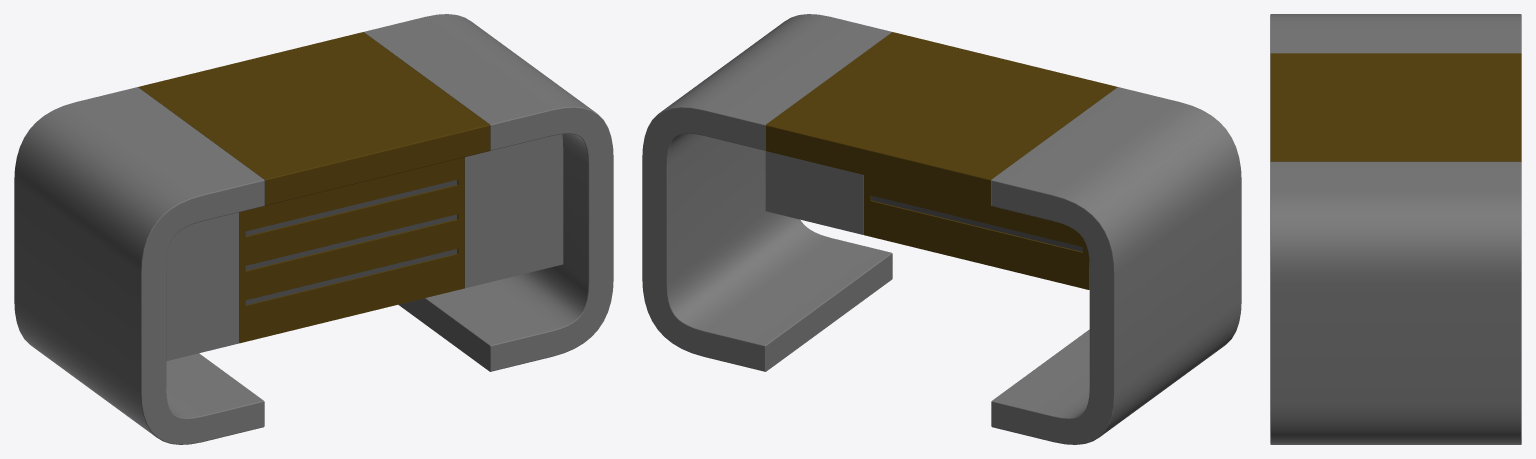
The model's file is stol_4__corona.fbx.
The picture shows the model from 3 angles, left to right: view 1: azimuth 30°, elevation 25°; view 2: azimuth 150°, elevation 25°; view 3: azimuth 270°, elevation 25°; orthographic projection.
Parts seen in each view (by area): view 1: stol_4_001; view 2: stol_4_001; view 3: stol_4_001.
Part boxes in pixels (x1=…): stol_4_001: x1=14, y1=14, x2=613, y2=444; stol_4_001: x1=642, y1=14, x2=1241, y2=444; stol_4_001: x1=1270, y1=14, x2=1521, y2=444.
Size of the model in its own units: 150 by 75.5 by 70.
